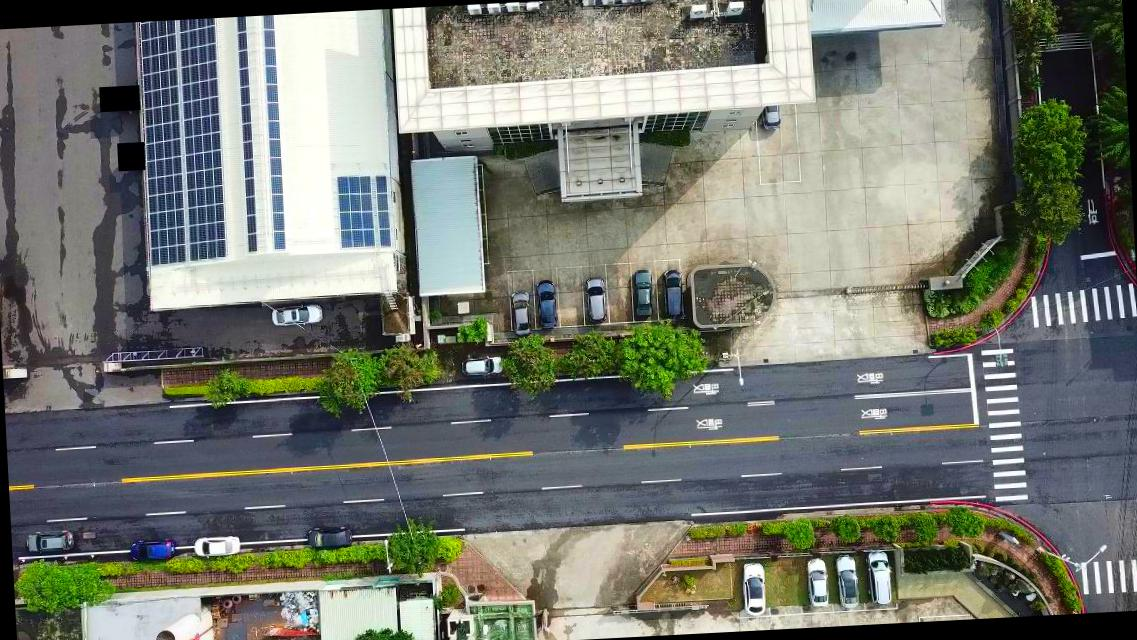vehicle: (739, 561, 769, 616), (866, 548, 894, 606), (833, 556, 860, 610), (269, 302, 324, 328), (629, 268, 656, 320), (803, 557, 830, 609), (26, 528, 74, 556), (532, 278, 556, 329), (661, 267, 684, 319), (194, 534, 242, 558), (460, 352, 506, 377), (129, 539, 176, 562), (583, 276, 605, 325), (307, 525, 352, 548), (510, 289, 530, 336), (756, 105, 782, 132)
